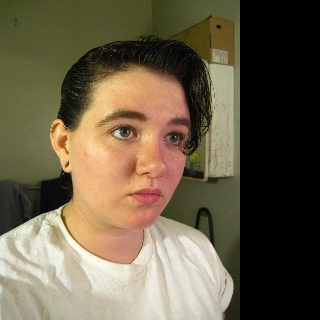without_mask: (49, 35, 224, 229)
